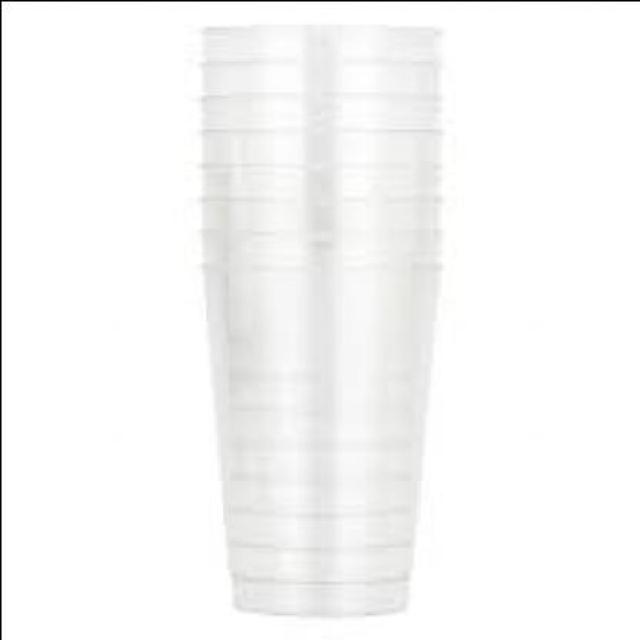plastic: (196, 20, 436, 611), (197, 258, 434, 612)
